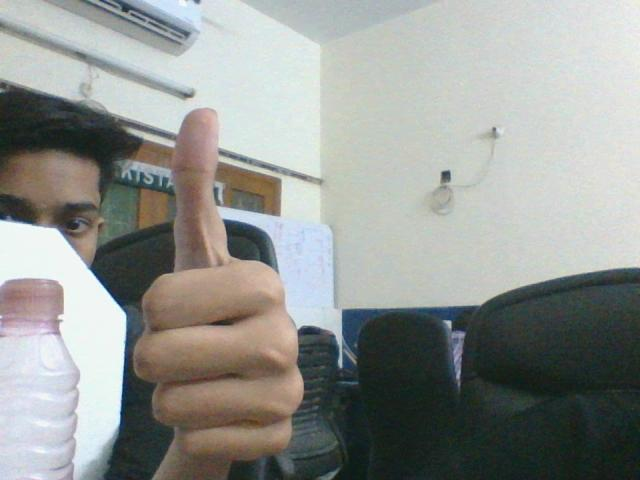thumbs-up: (126, 103, 300, 450)
